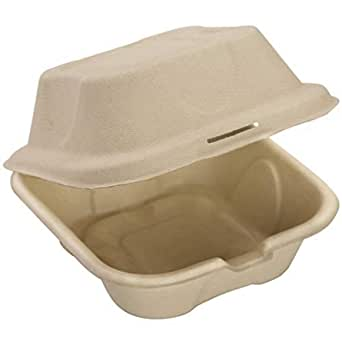styrofoam: (4, 25, 342, 320)
